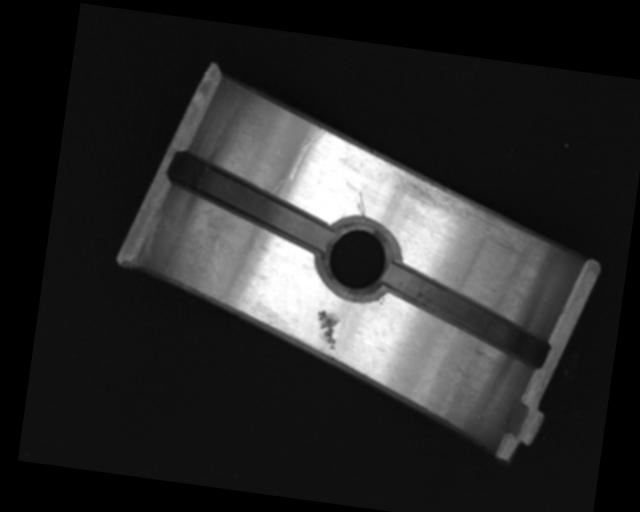bruise: (312, 308, 342, 351)
gap: (378, 263, 555, 368), (162, 150, 339, 251)
hole: (313, 211, 401, 300)
nick: (287, 123, 325, 185), (354, 190, 369, 218)
scratch: (390, 169, 542, 247)
